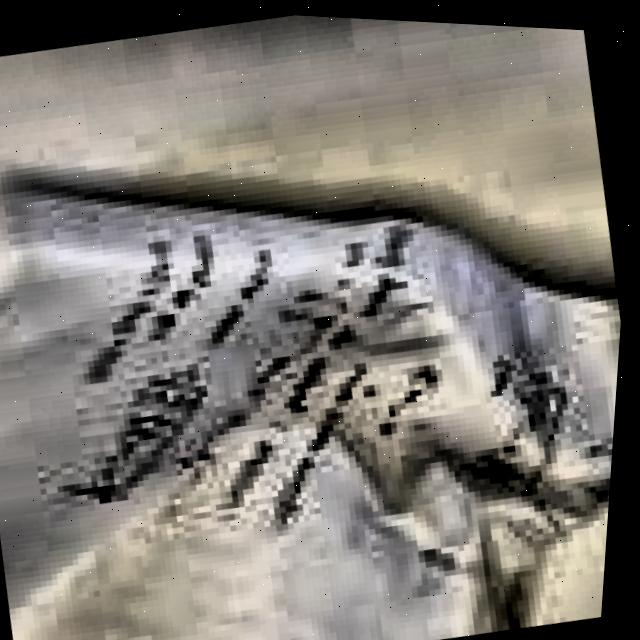paper: (0, 181, 625, 640)
